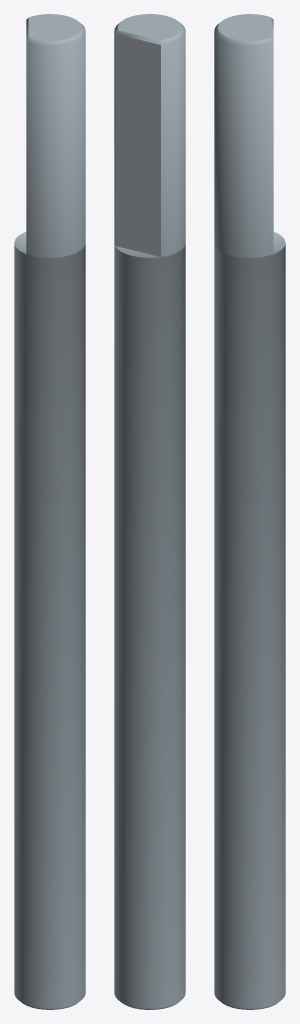
Rendered from VLAB_shaft.fbx.
3 views of the same model, side by side, from view 1: azimuth 90°, elevation 25°; view 2: azimuth 150°, elevation 25°; view 3: azimuth 270°, elevation 25° (orthographic).
Visible parts, largest first — view 1: VLAB_shaft_Shaft_VIS, VLAB_shaft_KeyOrFlat_VIS; view 2: VLAB_shaft_Shaft_VIS, VLAB_shaft_KeyOrFlat_VIS; view 3: VLAB_shaft_Shaft_VIS, VLAB_shaft_KeyOrFlat_VIS.
Boxes of the visible parts, bbox=[...] form: VLAB_shaft_Shaft_VIS: bbox=[14, 232, 85, 1009]; VLAB_shaft_KeyOrFlat_VIS: bbox=[26, 14, 85, 257]; VLAB_shaft_Shaft_VIS: bbox=[114, 243, 185, 1009]; VLAB_shaft_KeyOrFlat_VIS: bbox=[114, 14, 185, 256]; VLAB_shaft_Shaft_VIS: bbox=[214, 232, 285, 1009]; VLAB_shaft_KeyOrFlat_VIS: bbox=[214, 14, 273, 257].
Bounding box in the file's own units: 0.006 × 0.09 × 0.006.
